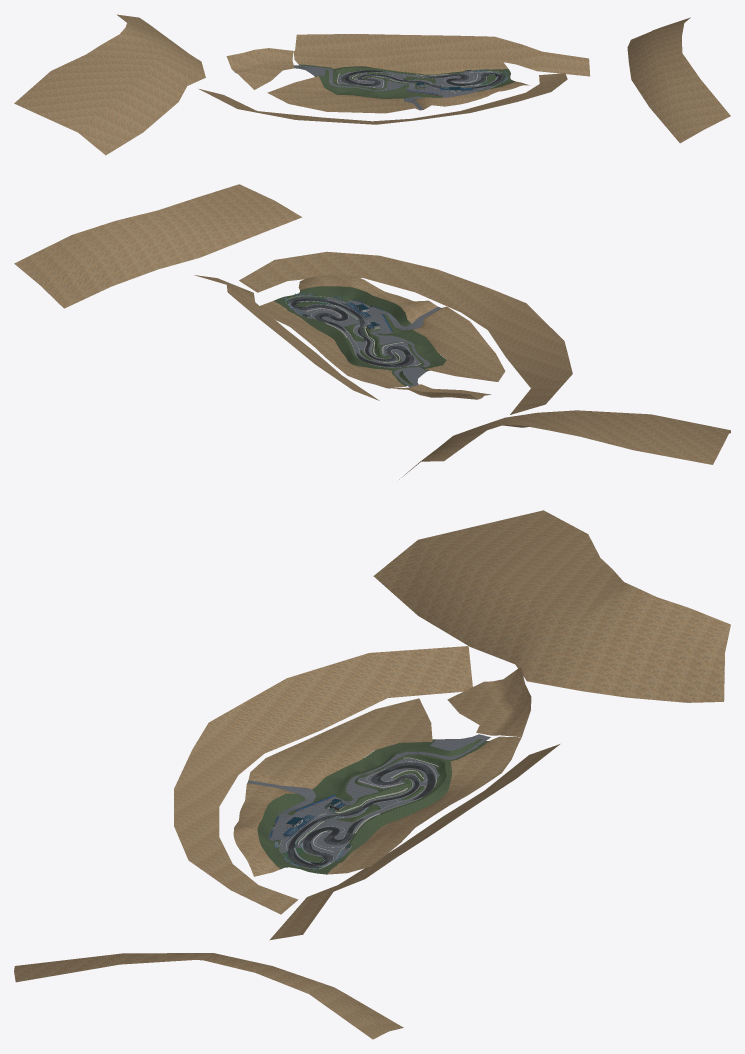
File: ebisu_minami.glb
3 renders of one model, top to bottom at view 1: azimuth 30°, elevation 25°; view 2: azimuth 150°, elevation 25°; view 3: azimuth 270°, elevation 25°, orthographic. The views are drawn at different scales.
Parts seen in each view (by area): view 1: col_0, col_173, col_3, col_98, col_172, col_1, col_6, col_40, col_7, col_13, col_155, col_2 (+31 smaller); view 2: col_175, col_95, col_0, col_172, col_167, col_173, col_171, col_12, col_170, col_39, col_35, col_16 (+24 smaller); view 3: col_8, col_6, col_9, col_3, col_7, col_12, col_11, col_0, col_95, col_1, col_167, col_16 (+24 smaller).
Part boxes in pixels (box(x1,y1,x2,y2)): col_0: box(14, 71, 114, 132); col_173: box(649, 79, 730, 143); col_3: box(51, 71, 177, 101); col_98: box(401, 35, 480, 74); col_172: box(631, 53, 700, 106); col_1: box(78, 99, 142, 155); col_6: box(86, 23, 163, 71); col_40: box(297, 34, 401, 65); col_7: box(143, 50, 205, 101); col_13: box(227, 48, 294, 89); col_155: box(474, 37, 542, 70); col_2: box(51, 44, 155, 71); col_175: box(40, 221, 136, 286); col_95: box(364, 269, 490, 317); col_0: box(634, 414, 730, 464); col_172: box(158, 197, 252, 257); col_167: box(239, 251, 378, 292); col_173: box(197, 184, 301, 236); col_171: box(138, 210, 199, 269); col_12: box(506, 341, 572, 388); col_170: box(91, 241, 157, 286); col_39: box(429, 289, 525, 329); col_35: box(416, 317, 487, 359); col_16: box(454, 330, 564, 370); col_8: box(626, 608, 724, 702); col_6: box(515, 558, 657, 643); col_9: box(527, 624, 646, 697); col_3: box(462, 534, 587, 646); col_7: box(471, 590, 574, 680); col_12: box(287, 653, 387, 730); col_11: box(369, 646, 472, 697); col_0: box(418, 510, 587, 561); col_95: box(174, 749, 285, 836); col_1: box(373, 540, 462, 615); col_167: box(174, 826, 298, 914); col_16: box(264, 678, 374, 753).
Bounding box in the file's own units: 1538 × 151 × 958.
44 materials, 44 textured.
